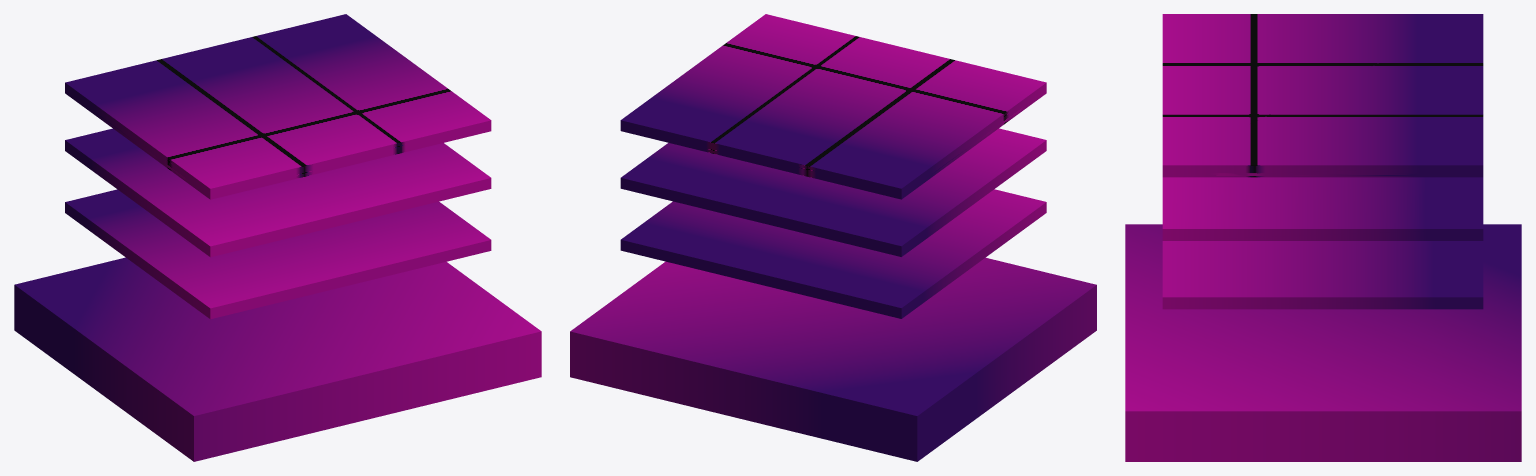
The model's file is 4_AIR_TABLE.glb.
3 renders of one model, left to right at view 1: azimuth 30°, elevation 25°; view 2: azimuth 150°, elevation 25°; view 3: azimuth 270°, elevation 25°, orthographic. The views are drawn at different scales.
Parts seen in each view (by area): view 1: Cubo.001, Cubo.007, Cubo.005, Cubo.006; view 2: Cubo.001, Cubo.007, Cubo.005, Cubo.006; view 3: Cubo.001, Cubo.007, Cubo.005, Cubo.006.
Part boxes in pixels (bbox=[...]): Cubo.001: bbox=[14, 257, 541, 461]; Cubo.007: bbox=[65, 14, 491, 199]; Cubo.005: bbox=[65, 189, 491, 319]; Cubo.006: bbox=[65, 128, 491, 257]; Cubo.001: bbox=[570, 257, 1096, 461]; Cubo.007: bbox=[620, 14, 1046, 199]; Cubo.005: bbox=[620, 189, 1046, 318]; Cubo.006: bbox=[620, 128, 1046, 256]; Cubo.001: bbox=[1125, 224, 1521, 461]; Cubo.007: bbox=[1162, 14, 1483, 177]; Cubo.005: bbox=[1162, 241, 1483, 309]; Cubo.006: bbox=[1162, 177, 1483, 240].
Bounding box in the file's own units: 1.79 × 1.24 × 1.6.
Materials: 4 (4 with a texture image).
